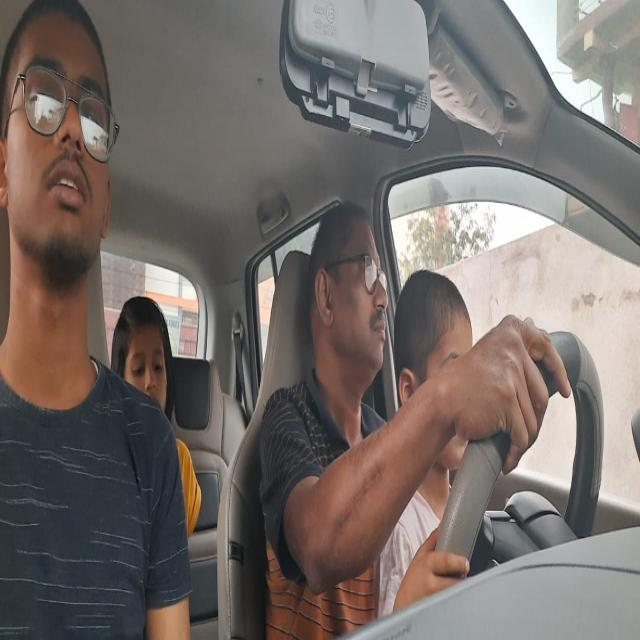child: (392, 272, 478, 404)
person: (1, 0, 129, 311), (304, 204, 392, 378), (109, 293, 172, 409)
